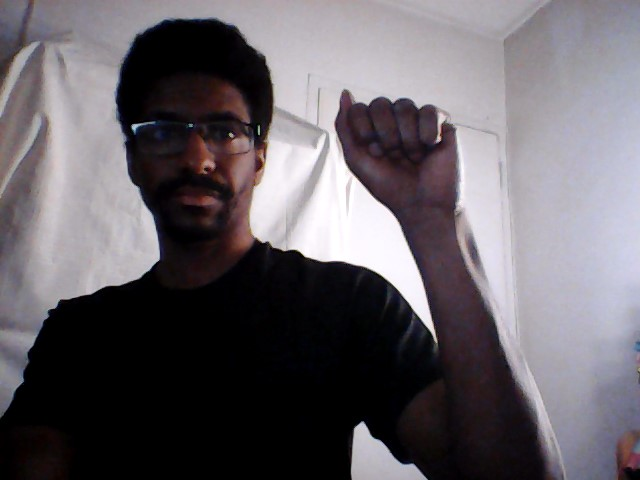a: (333, 84, 465, 213)
